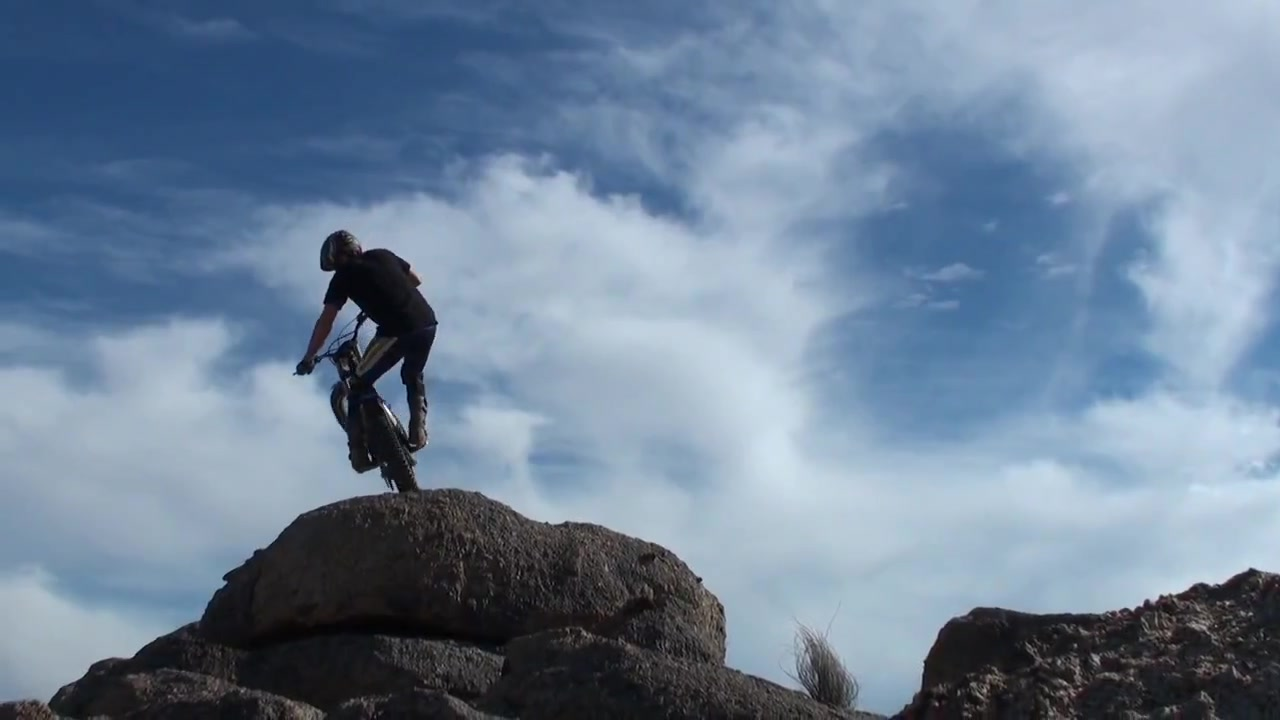motorbike: (302, 309, 423, 506)
